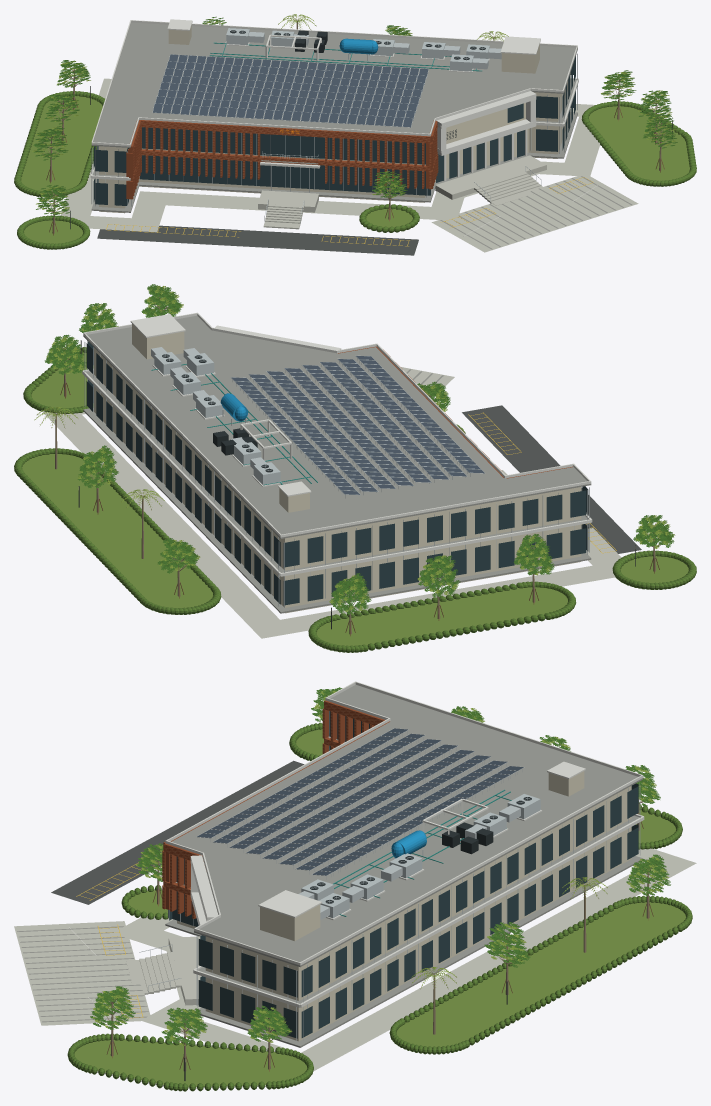
Rendered from canteen-lod0.glb.
The picture shows the model from 3 angles, top to bottom: view 1: azimuth 30°, elevation 25°; view 2: azimuth 150°, elevation 25°; view 3: azimuth 270°, elevation 25°; orthographic projection. The views are drawn at different scales.
Parts seen in each view (by area): view 1: roof decks and floor slabs | roof, tilted dark solar collector faces | solar, deep shaded canteen glazing | blue glass, connected planted lawns | lawn, white folded wing and parapets | ivory metal, site perimeter paving | pale paving, internal drive and court paving | pale paving, thick terracotta sun fins | brick, continuous low hedges | hedge, cream service walls | plaster, internal drive and court paving | dark paving, layered leaf canopy | leaf shadow (+17 smaller); view 2: roof decks and floor slabs | roof, connected planted lawns | lawn, deep shaded canteen glazing | blue glass, cream service walls | plaster, tilted dark solar collector faces | solar, site perimeter paving | pale paving, continuous low hedges | hedge, layered leaf canopy | leaf shadow, white folded wing and parapets | ivory metal, collector aluminium frames and supports | silver metal, layered leaf canopy | leaf light, internal drive and court paving | dark paving (+6 smaller); view 3: roof decks and floor slabs | roof, connected planted lawns | lawn, deep shaded canteen glazing | blue glass, cream service walls | plaster, tilted dark solar collector faces | solar, site perimeter paving | pale paving, white folded wing and parapets | ivory metal, continuous low hedges | hedge, internal drive and court paving | pale paving, collector aluminium frames and supports | silver metal, layered leaf canopy | leaf shadow, internal drive and court paving | dark paving (+14 smaller).
Part boxes in pixels (x1,y1,x2,y2): roof decks and floor slabs | roof: (91,22,577,212); tilted dark solar collector faces | solar: (153,54,428,127); deep shaded canteen glazing | blue glass: (93,56,575,205); connected planted lawns | lawn: (21,96,689,243); white folded wing and parapets | ivory metal: (90,19,578,181); site perimeter paving | pale paving: (60,78,599,232); internal drive and court paving | pale paving: (431,176,638,252); thick terracotta sun fins | brick: (126,120,437,199); continuous low hedges | hedge: (14,91,696,249); cream service walls | plaster: (99,25,570,213); internal drive and court paving | dark paving: (97,225,418,255); layered leaf canopy | leaf shadow: (33,16,677,216); roof decks and floor slabs | roof: (83,315,591,613); connected planted lawns | lawn: (22,352,688,645); deep shaded canteen glazing | blue glass: (86,341,588,605); cream service walls | plaster: (94,324,581,613); tilted dark solar collector faces | solar: (231,356,484,494); site perimeter paving | pale paving: (41,410,621,638); continuous low hedges | hedge: (14,347,696,652); layered leaf canopy | leaf shadow: (44,284,674,614); white folded wing and parapets | ivory metal: (82,312,592,576); collector aluminium frames and supports | silver metal: (222,355,485,498); layered leaf canopy | leaf light: (34,285,675,611); internal drive and court paving | dark paving: (462,405,641,553); roof decks and floor slabs | roof: (165,685,643,1047); connected planted lawns | lawn: (74,729,685,1087); deep shaded canteen glazing | blue glass: (168,711,638,1038); cream service walls | plaster: (177,739,631,1041); tilted dark solar collector faces | solar: (197,728,523,875); site perimeter paving | pale paving: (112,848,696,1071); white folded wing and parapets | ivory metal: (165,681,644,1007); continuous low hedges | hedge: (67,722,692,1091); internal drive and court paving | pale paving: (14,921,150,1025); collector aluminium frames and supports | silver metal: (196,728,524,879); layered leaf canopy | leaf shadow: (90,687,670,1044); internal drive and court paving | dark paving: (51,760,304,904).
Size of the model in its own units: 110 by 16.14 by 85.87.
